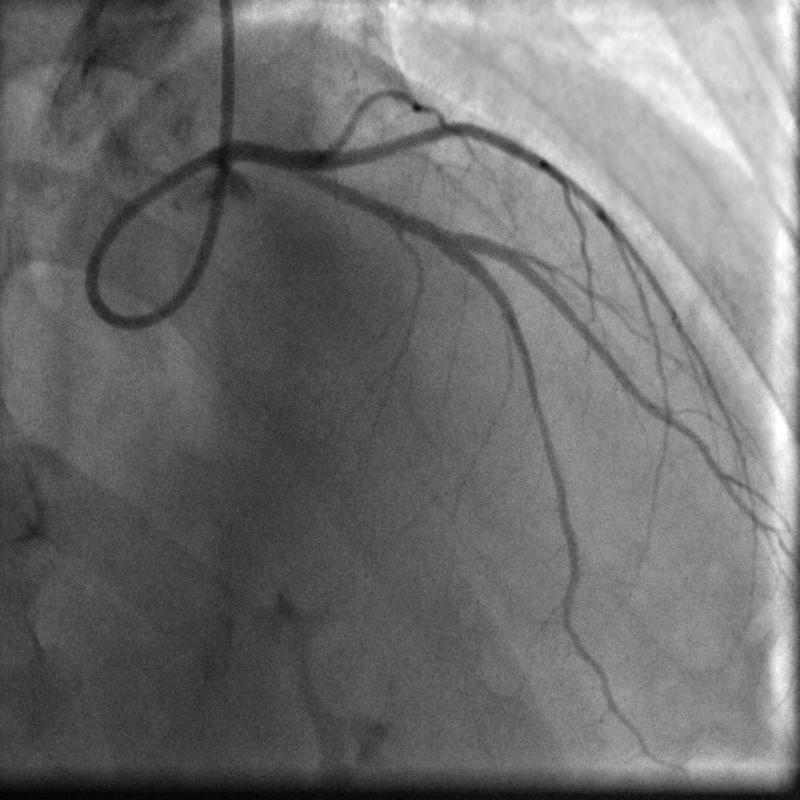Stenosis: (423, 214, 448, 248)
